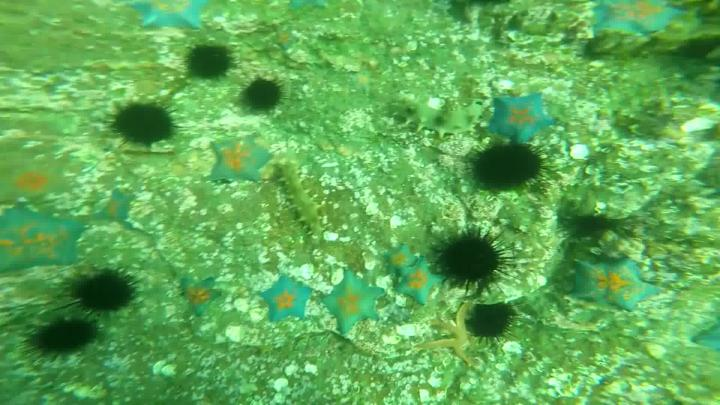echinus: (426, 232, 515, 292), (470, 140, 550, 191), (108, 96, 175, 147), (24, 317, 100, 358), (71, 274, 141, 316), (472, 304, 523, 346), (183, 44, 236, 79), (245, 79, 280, 112)
holothurian: (387, 92, 481, 139), (272, 164, 326, 239)
scallop: (681, 118, 720, 135), (152, 361, 178, 379), (225, 327, 251, 342), (569, 145, 593, 159), (396, 324, 419, 337), (274, 378, 292, 393), (234, 301, 251, 314), (301, 265, 316, 279), (390, 214, 404, 226)
starfish: (11, 206, 85, 276), (576, 257, 661, 312), (325, 270, 387, 333), (490, 93, 557, 142), (211, 136, 273, 188), (10, 150, 75, 198), (264, 276, 313, 326), (131, 1, 210, 29), (395, 264, 447, 305), (183, 278, 222, 310), (98, 192, 137, 221), (389, 246, 417, 272)
